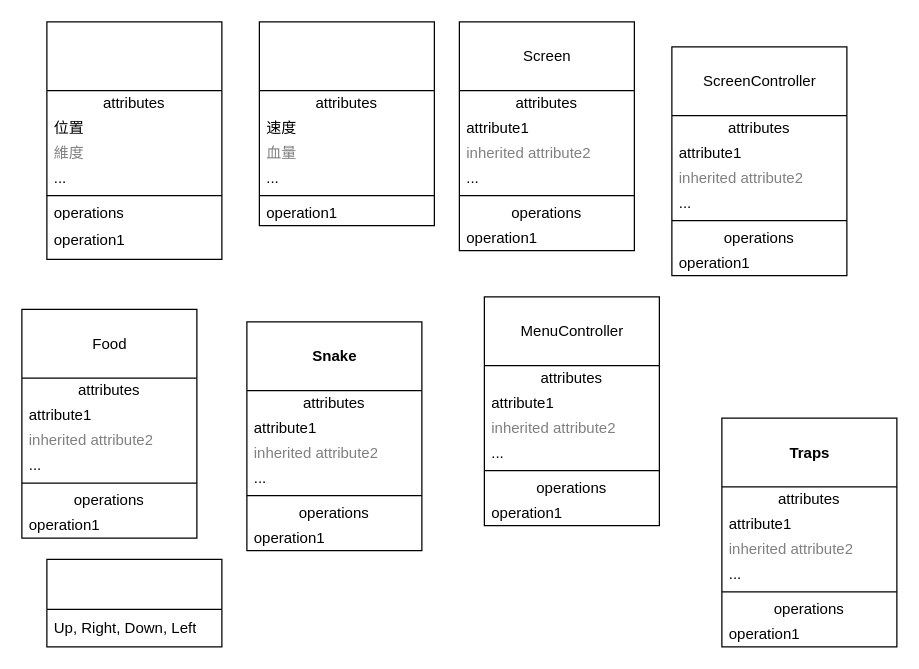
The diagram is 919 pixels wide and 669 high, and some of its shapes have lost their labels. Here are the shapes that lost their labels. From the top down, the box of each, then its label:
(46, 21, 222, 259): <<Abstract>> GameObject
(258, 21, 434, 226): <<Abstract>> SnakeObject
(46, 558, 222, 647): <<enumeration>> Direction
